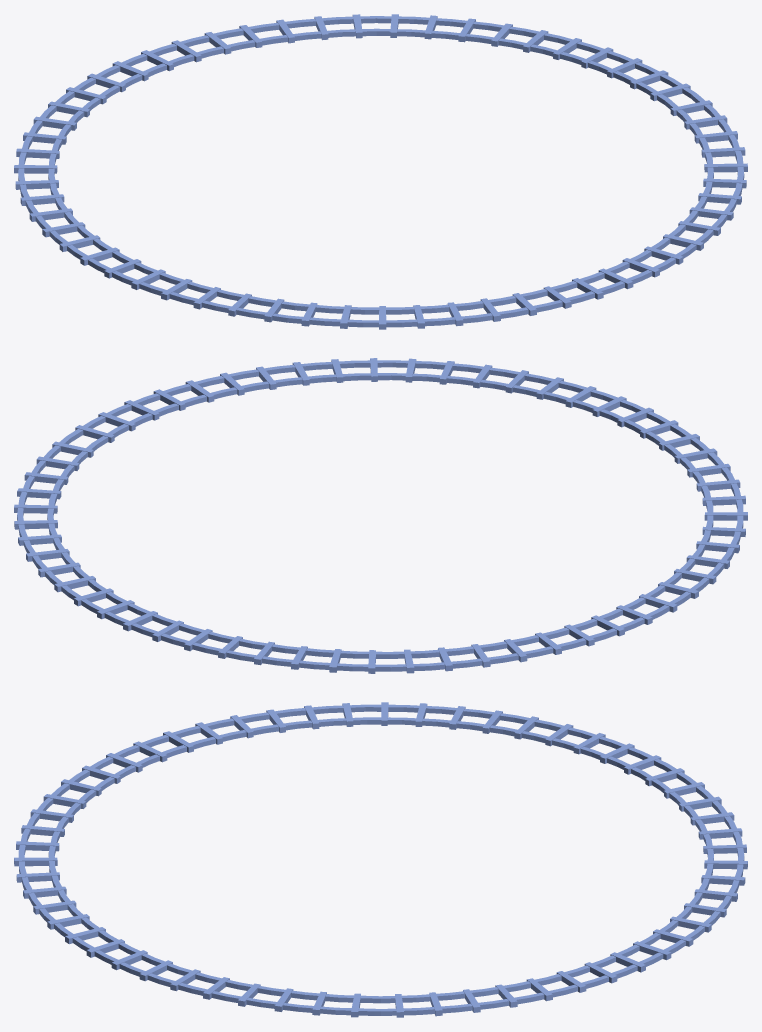
The model's file is choochooRail02.glb.
3 renders of one model, top to bottom at view 1: azimuth 30°, elevation 25°; view 2: azimuth 150°, elevation 25°; view 3: azimuth 270°, elevation 25°, orthographic.
Parts seen in each view (by area): view 1: Track visual; view 2: Track visual; view 3: Track visual.
Boxes of the visible parts, left/top/right/bottom form: Track visual: left=14, top=14, right=747, bottom=329; Track visual: left=14, top=358, right=747, bottom=673; Track visual: left=14, top=702, right=747, bottom=1017.
Bounding box in the file's own units: 65.53 × 0.5377 × 65.57.
